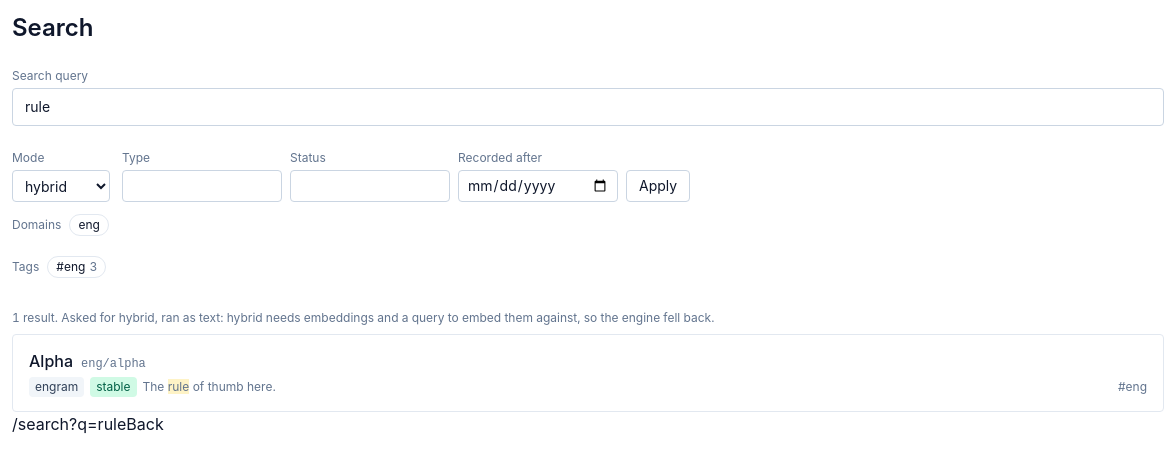
the search screen › narrows to a domain when its chip is turned on
expect the link "Alpha eng/alpha engram stable The rule of thumb here. #eng" is shown: met, box [17, 335, 1159, 411]
Click the button "eng" at (89, 225), box [69, 214, 109, 236]
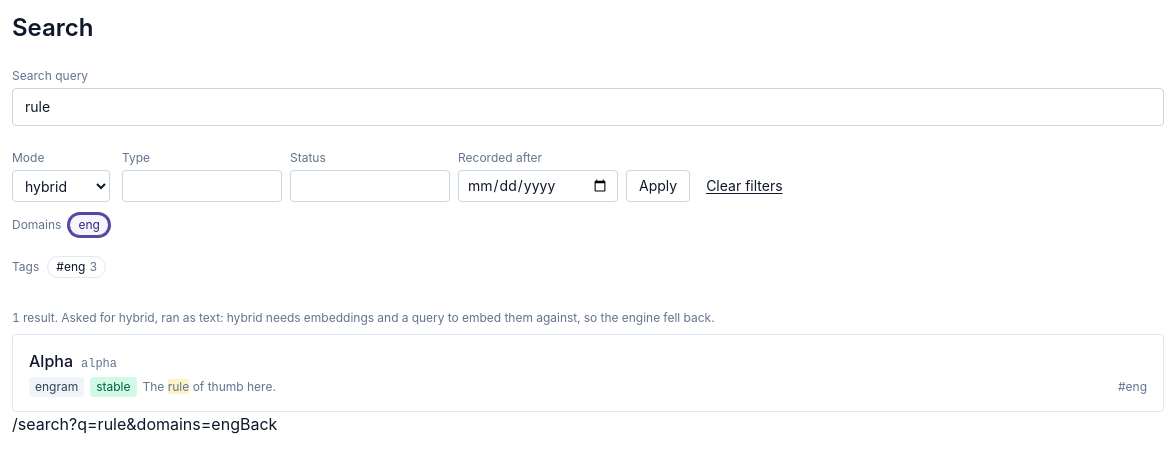
expect the text with test id "url" shows "domains=eng": met, box [12, 414, 240, 434]
